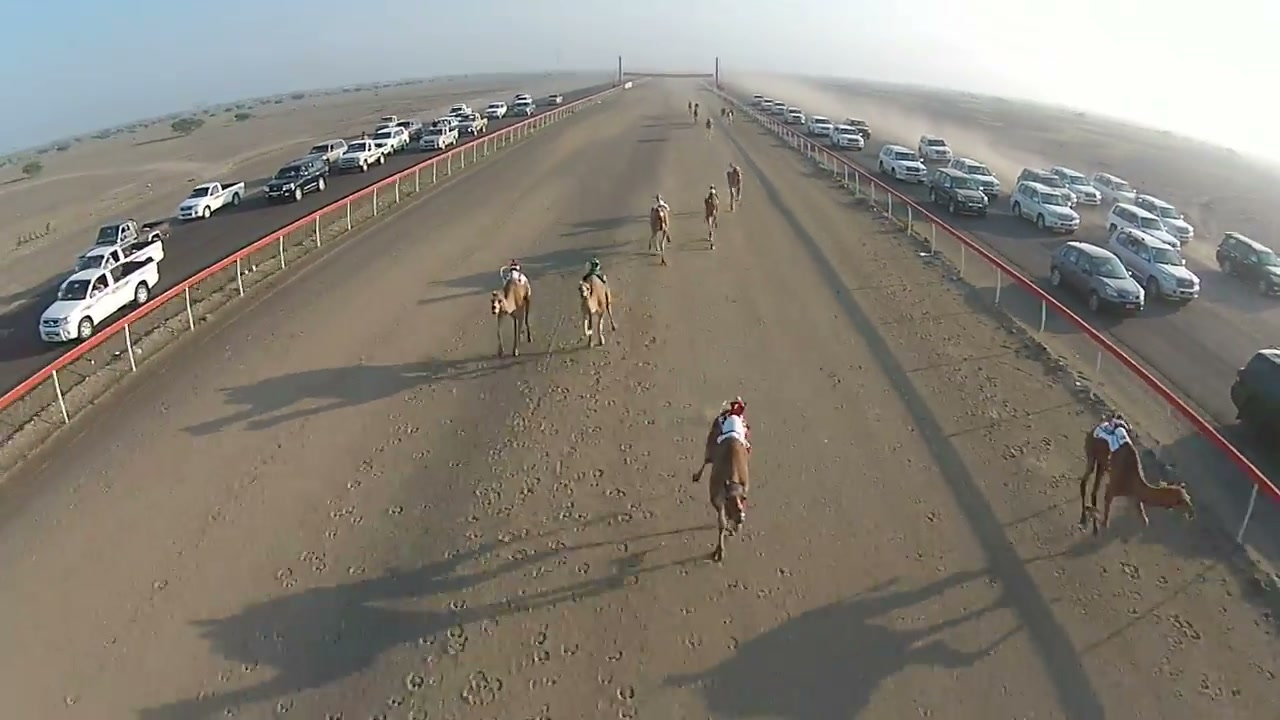animal_foot_print: (378, 355, 651, 719)
